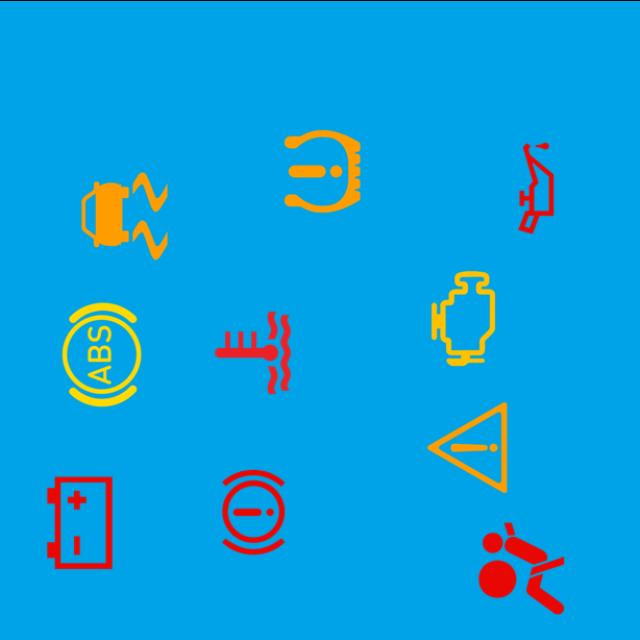Anti Lock Braking System: (44, 297, 158, 411)
Braking System Issue: (197, 454, 311, 568)
Charging System Issue: (22, 464, 136, 578)
Check Engine: (406, 260, 520, 374)
Electronic Stability Problem -ESP-: (67, 158, 182, 272)
Engine Overheating Warning Light: (196, 295, 310, 409)
Low Engine Oil Warning Light: (479, 130, 594, 244)
Low Tire Pressure Warning Light: (266, 114, 380, 228)
Master warning light: (410, 389, 524, 504)
SRS-Airbag: (464, 510, 578, 624)
